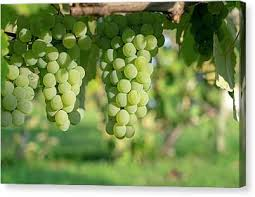grapes: (97, 20, 160, 144), (43, 20, 91, 128), (8, 28, 42, 127)
